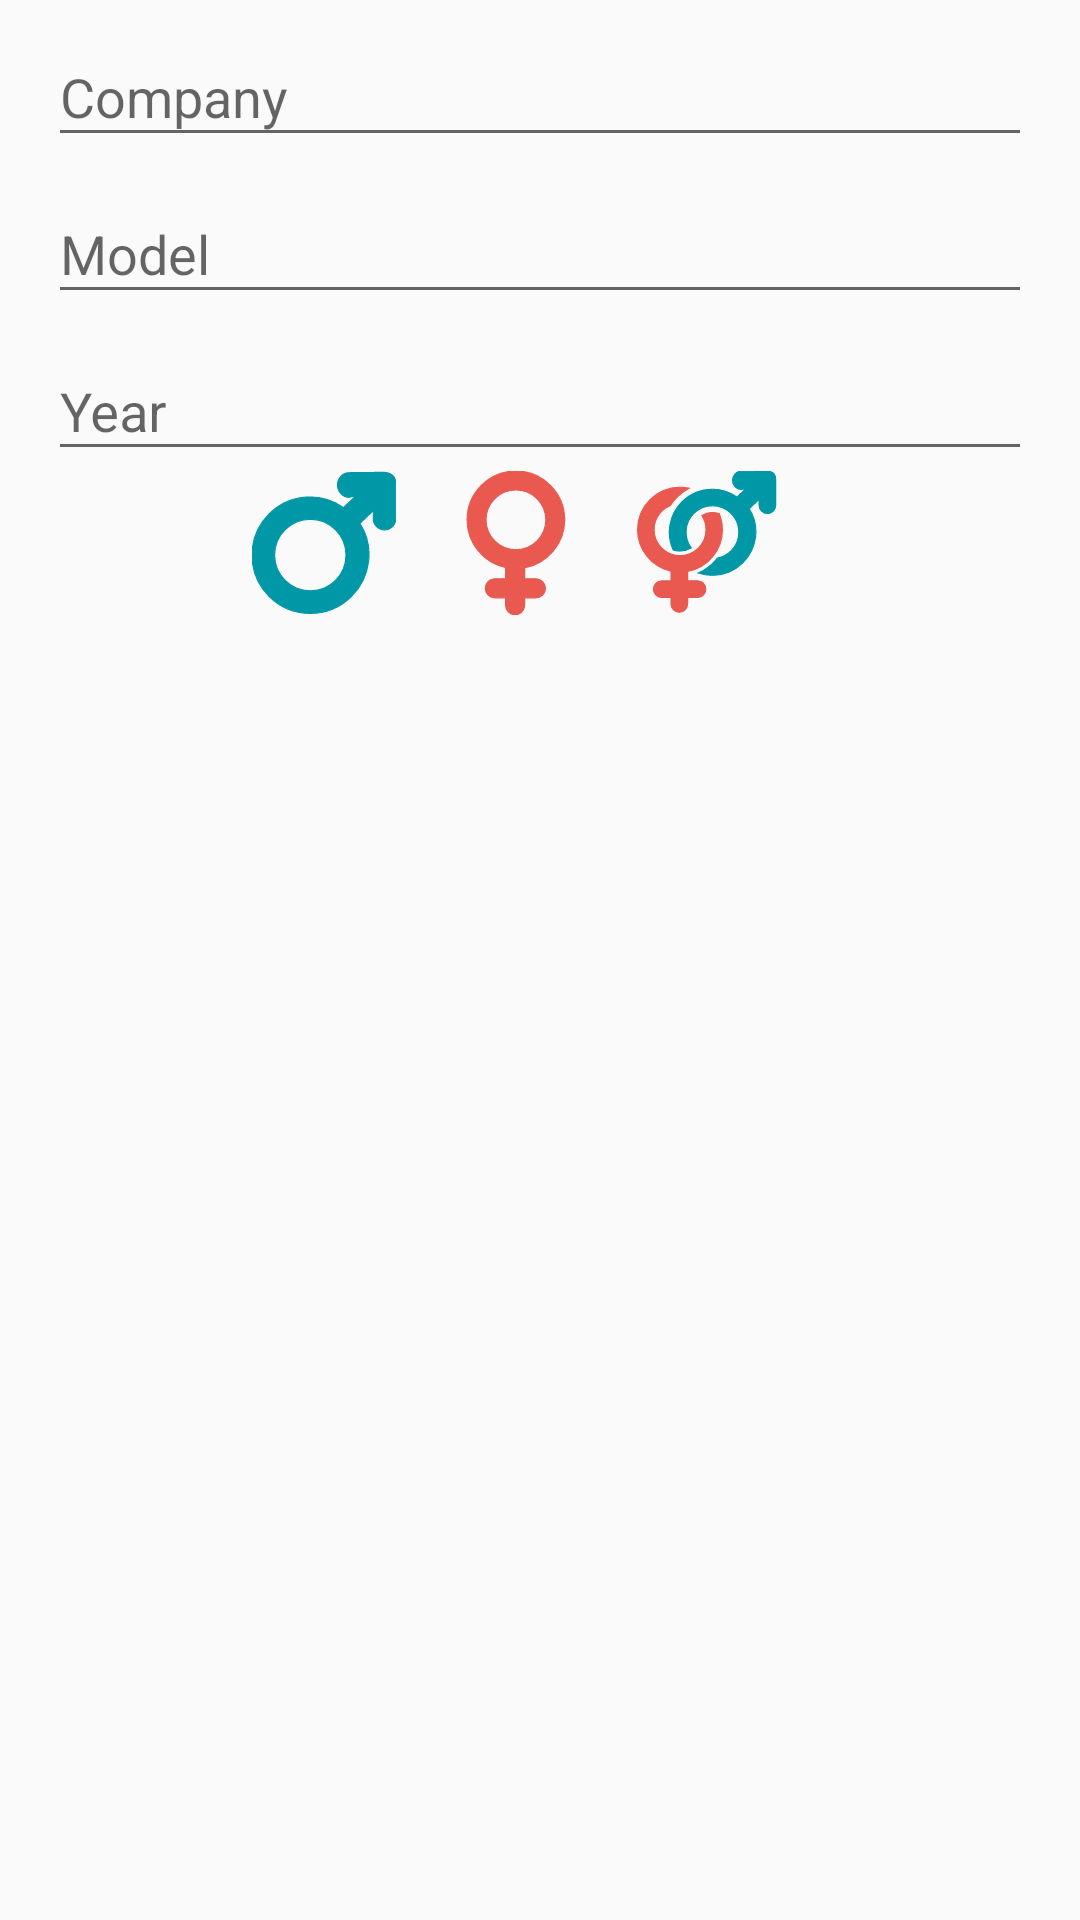

Where to tap for icons on this 1080 x 1920 app screen, as point (x, y):
gender female: point (516, 543)
gender male: point (324, 542)
gender unisex: point (707, 542)
